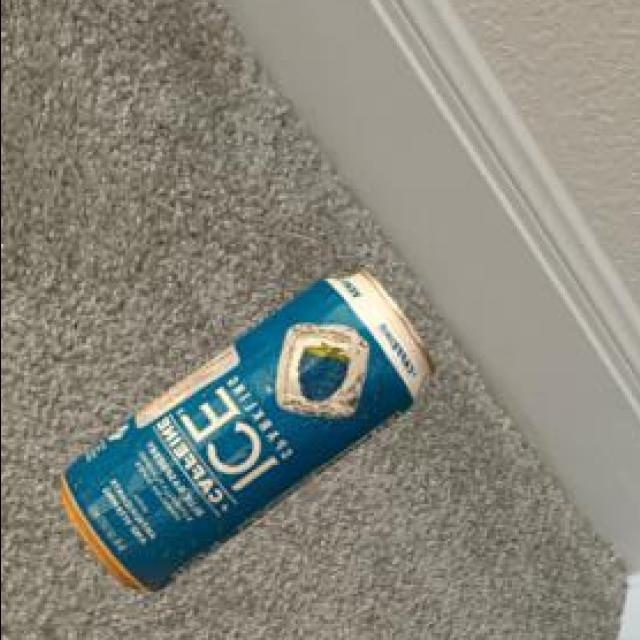logam: (63, 273, 436, 595)
